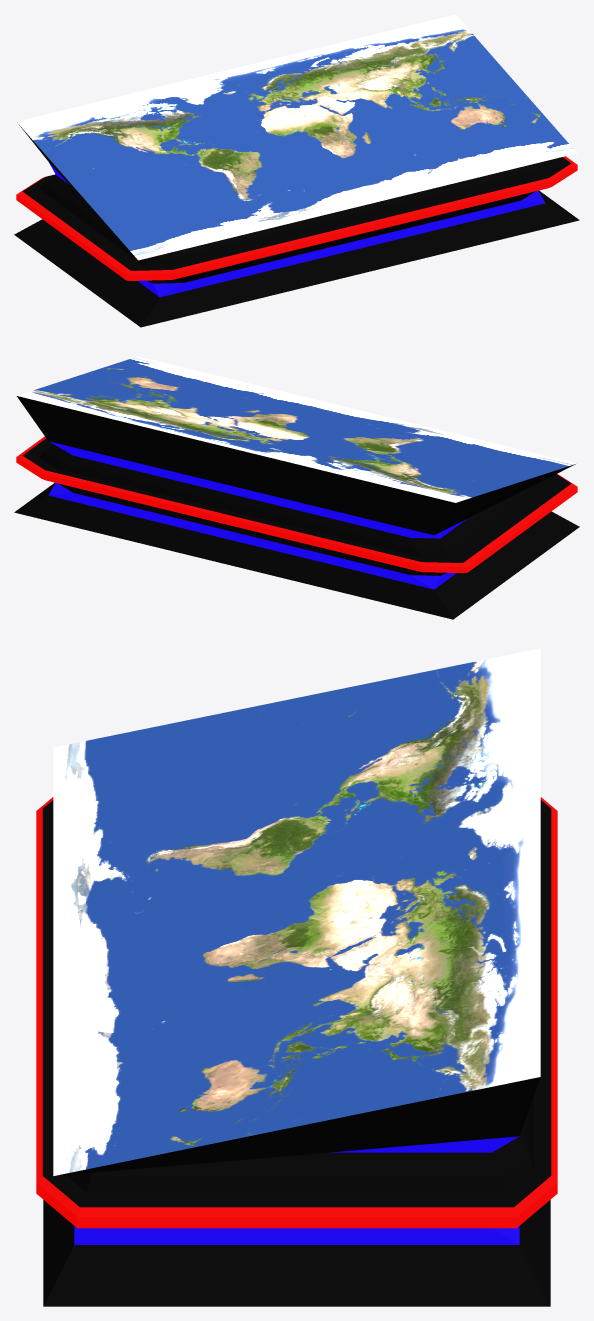
File: taula_terra.glb
3 renders of one model, top to bottom at view 1: azimuth 30°, elevation 25°; view 2: azimuth 150°, elevation 25°; view 3: azimuth 270°, elevation 25°, orthographic. The views are drawn at different scales.
Parts seen in each view (by area): view 1: Plane; view 2: Plane; view 3: Plane.
Boxes of the visible parts, x1,y1,x2,y2 form: Plane: (14,14,579,327); Plane: (14,356,579,619); Plane: (36,648,557,1306).
Size of the model in its own units: 4.11 by 1 by 2.05.
Materials: 4 (1 with a texture image).
